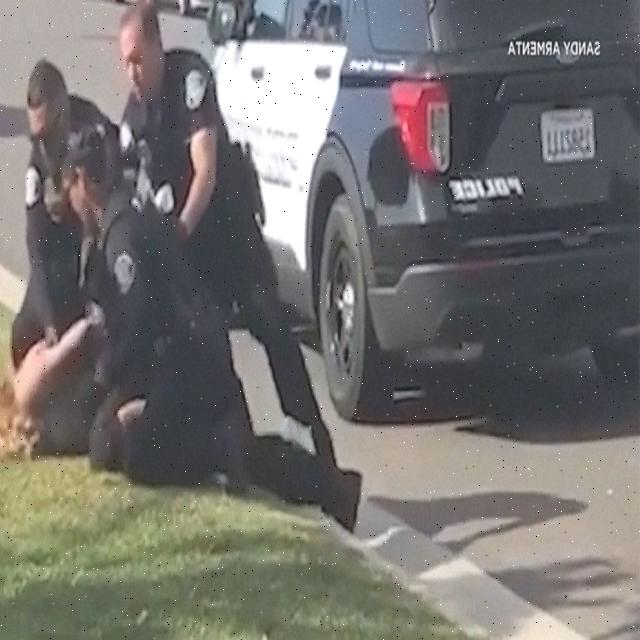police: (111, 2, 342, 453), (68, 134, 270, 483), (11, 53, 121, 356)
